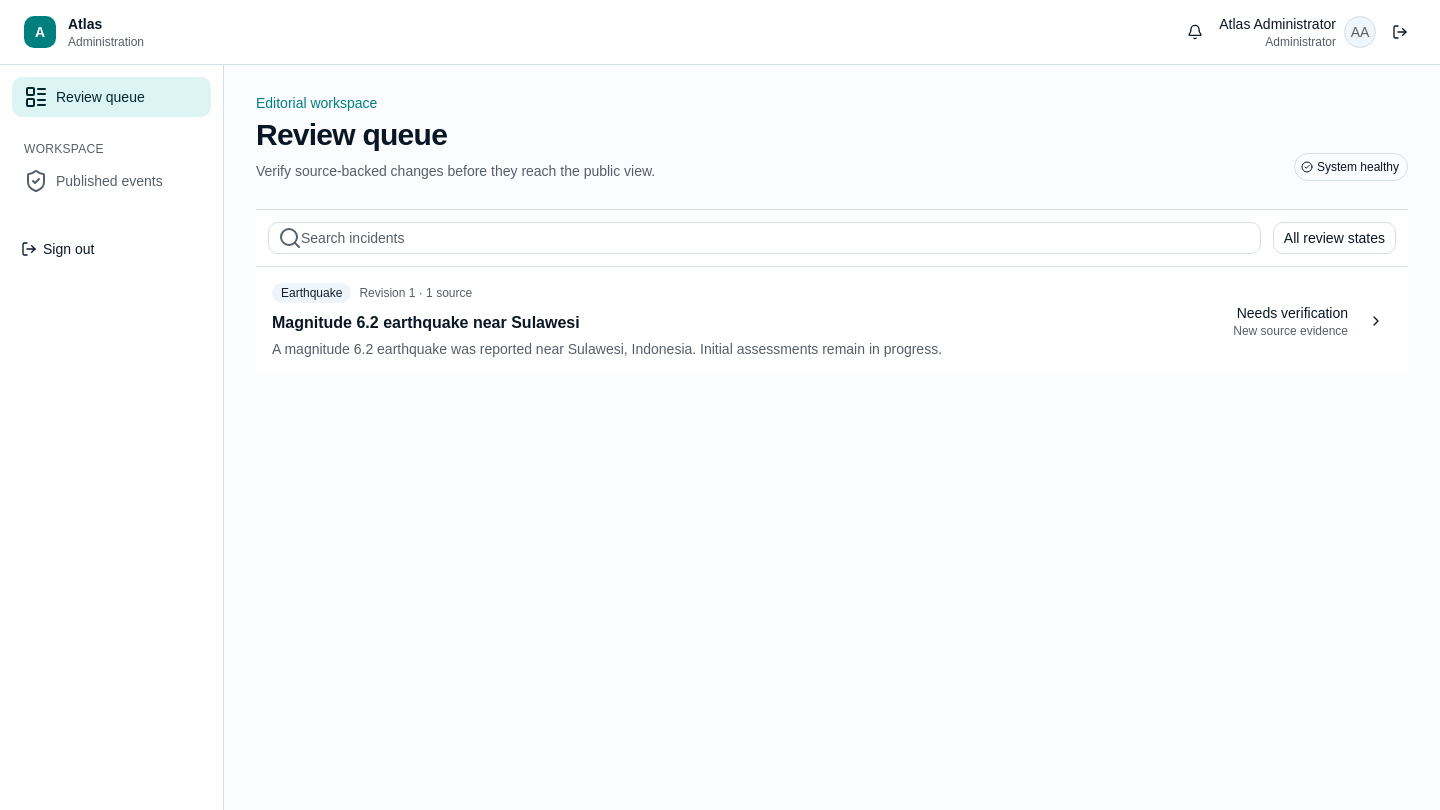
Test case: administrator session › signs out with CSRF protection and returns to the login form
The image size is (1440, 810).
Expected: the heading "Review queue" is shown, [256, 118, 447, 151]
Step 1. Click the button named "Sign out" → (1400, 32), box [1384, 16, 1416, 48]
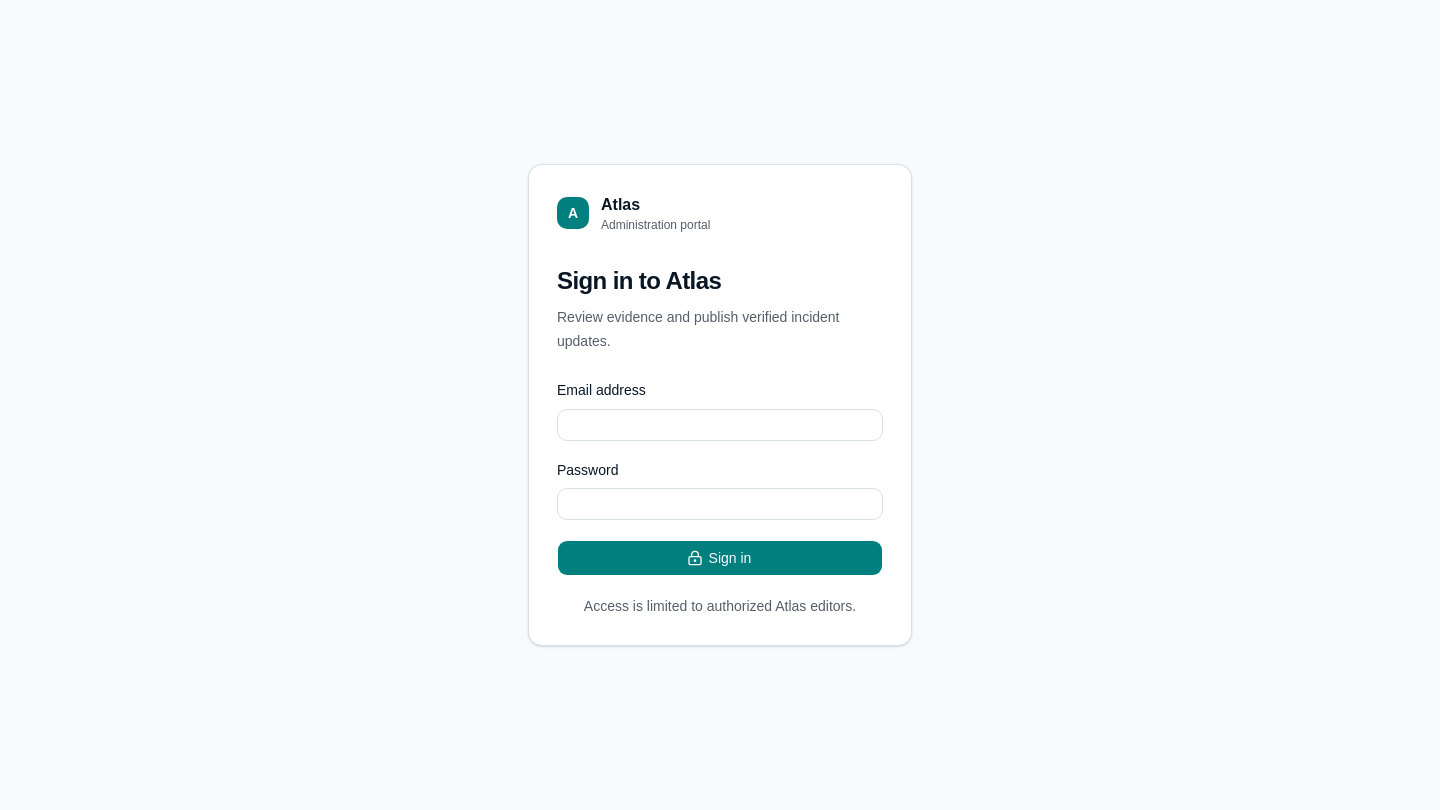
Expected: the heading "Sign in to Atlas" is shown, [557, 267, 721, 294]
